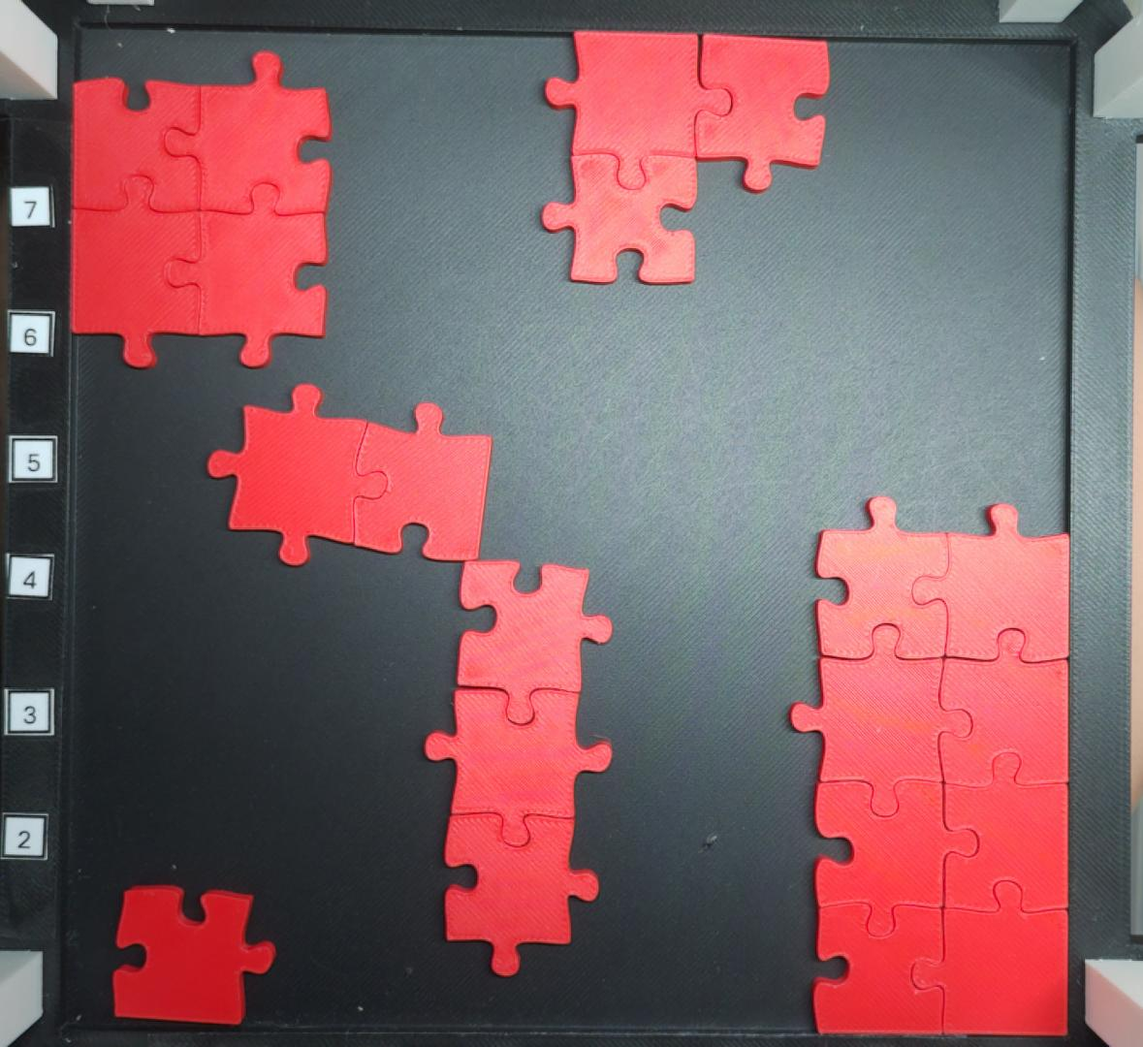p_1: (111, 881, 275, 1025)
p_2: (203, 384, 493, 564)
p_3: (420, 559, 613, 975), (541, 28, 831, 288)
p_4: (71, 50, 331, 368)
p_m: (787, 496, 1073, 1039)
